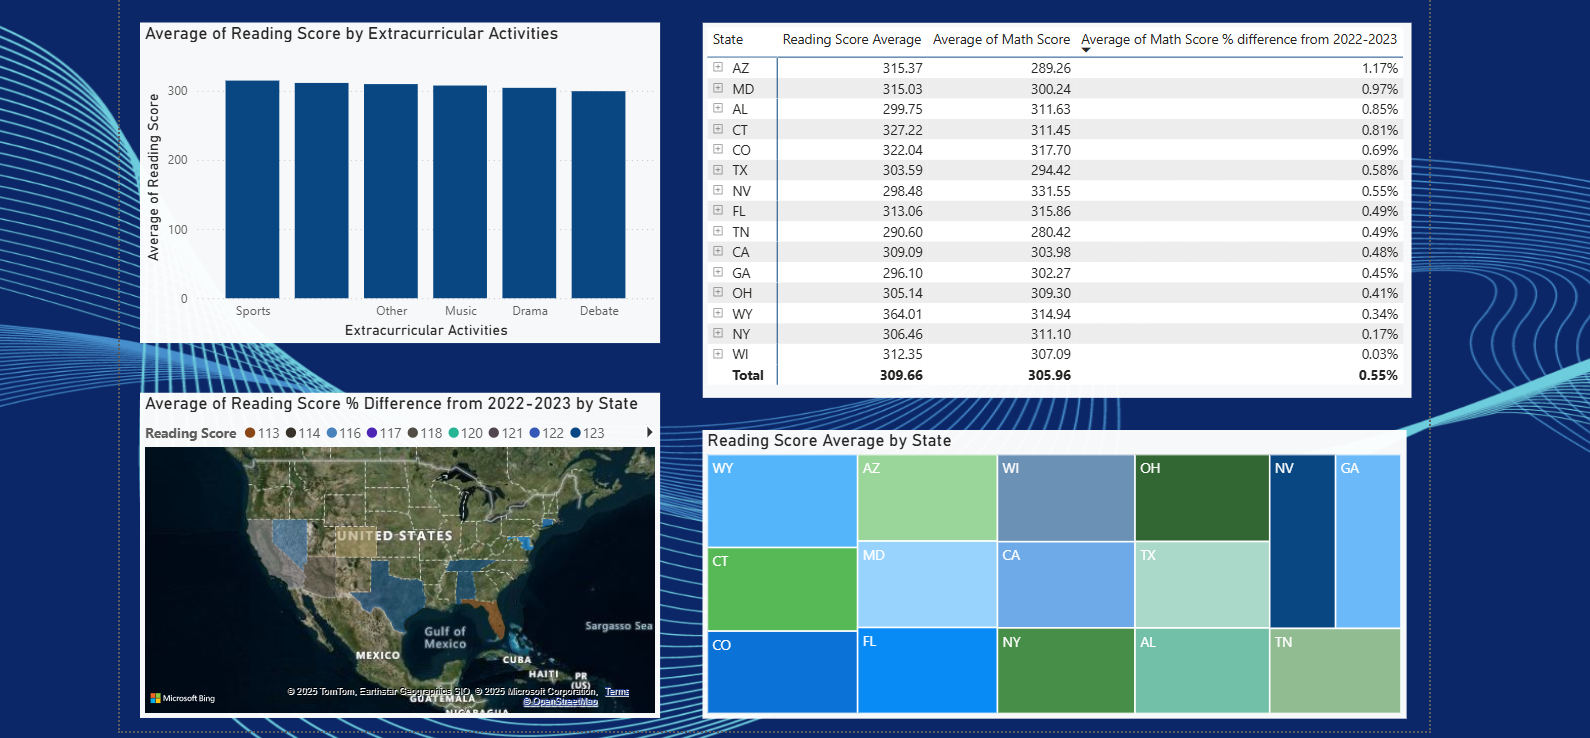

The page's visual inventory and layout, read from the dashboard file:
{"tool":"powerbi","page":{"name":"Page 2","canvas":[1280,720],"ordinal":1},"visuals":[{"type":"columnChart","fields":{"Y":["Avg(Test Scores.Reading Score)"],"Category":["StudentData.Extracurricular Activities"]},"box":[20,27.5,508.8,313.8],"z":0},{"type":"pivotTable","fields":{"Rows":["Test Scores.State Hierarchy.State","Test Scores.State Hierarchy.District"],"Values":["Test Scores.Reading Score Average","Avg(Test Scores.Math Score)","Test Scores.Average of Math Score % difference from 2022-2023"]},"box":[570,27.5,693.8,367.5],"z":1000},{"type":"filledMap","title":"Average of Reading Score % Difference from 2022-2023 by State","fields":{"Category":["Test Scores.State"],"Series":["Test Scores.Reading Score"]},"box":[20,388.8,508.8,318.8],"z":2000},{"type":"treemap","fields":{"Group":["Test Scores.State"],"Values":["Test Scores.Reading Score Average"]},"box":[569.8,425.5,688.5,282.5],"z":3000}]}

Visuals, with their boxes in screenshot pixels (x1, y1, x2, y2):
columnChart - Avg(Test Scores.Reading Score) x StudentData.Extracurricular Activities: bbox=(140, 24, 654, 340)
pivotTable - Test Scores.State Hierarchy.State x Test Scores.State Hierarchy.District: bbox=(695, 24, 1396, 395)
"Average of Reading Score % Difference from 2022-2023 by State" filledMap: bbox=(140, 388, 654, 710)
treemap - Test Scores.State x Test Scores.Reading Score Average: bbox=(695, 425, 1390, 711)
